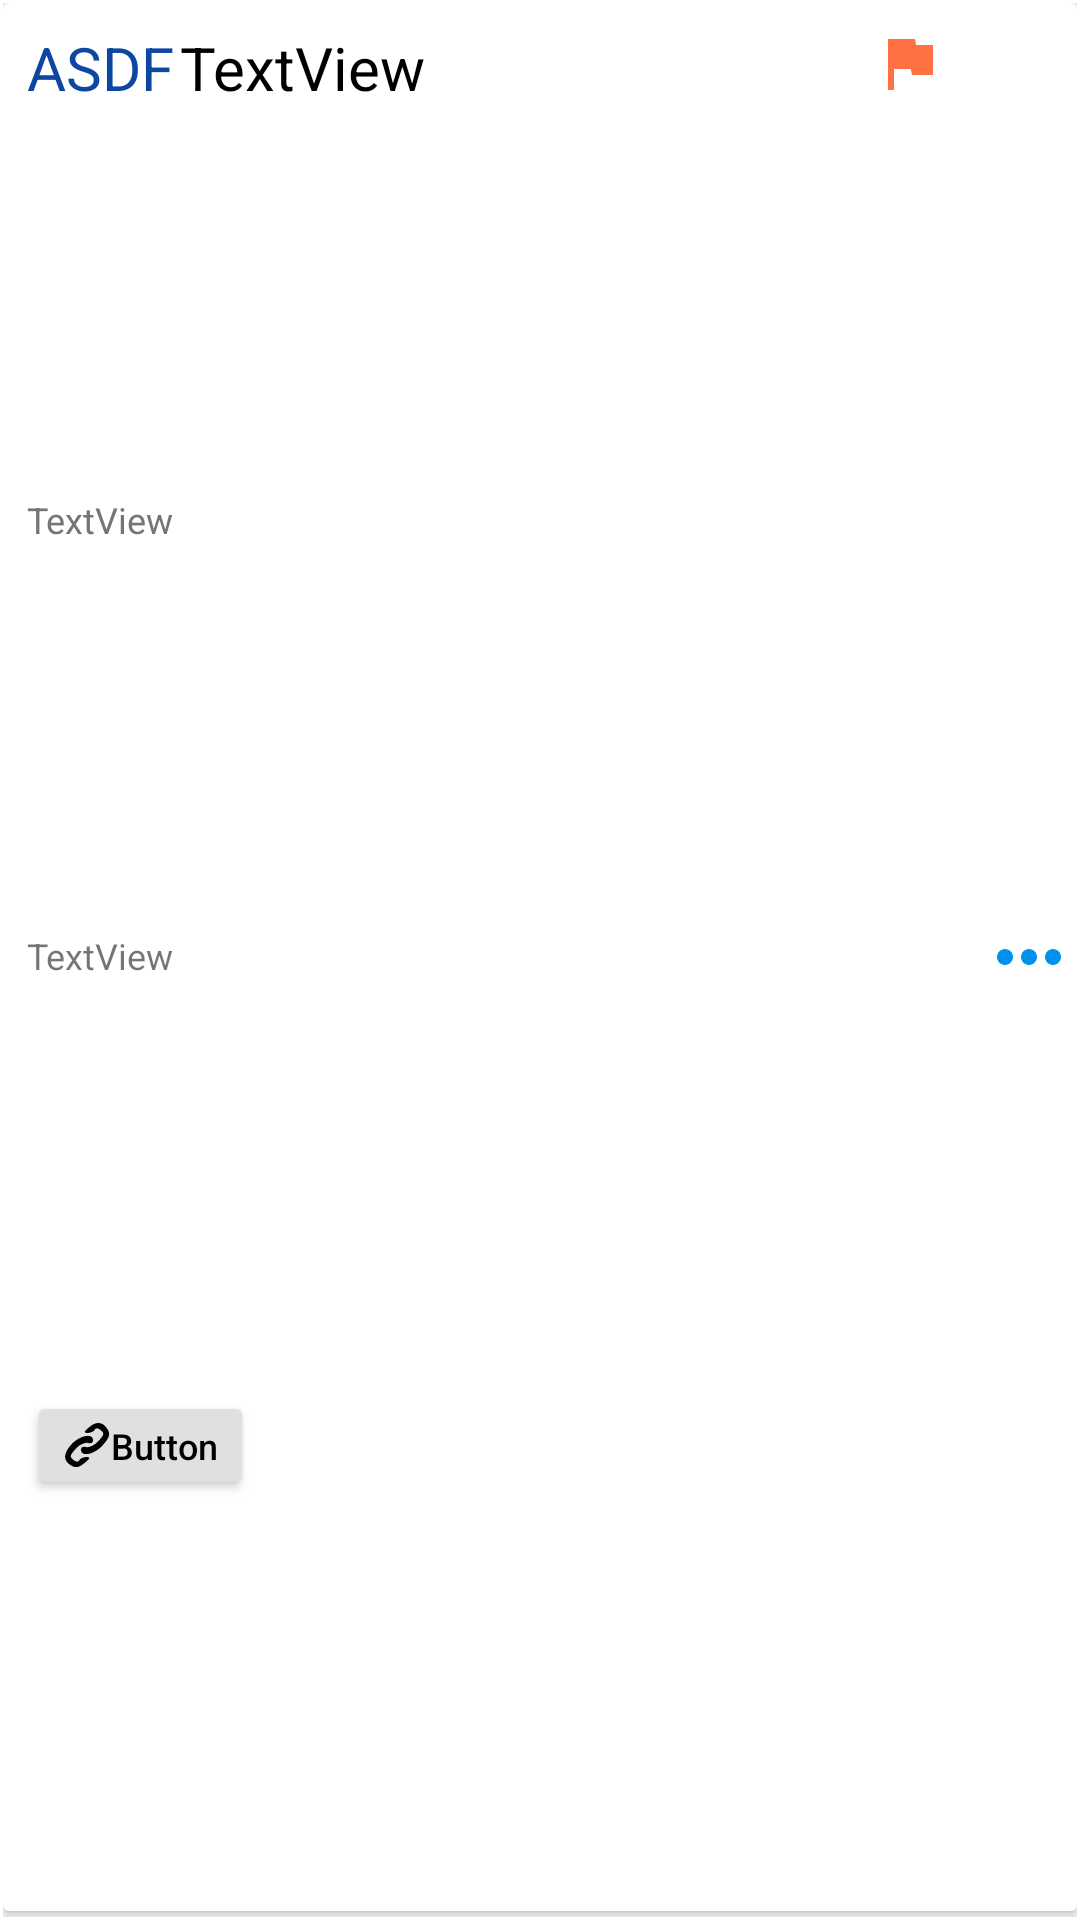

Icons on this 1080px×1920px Android screen, each with the point to tap as point (x, y):
flag: point (910, 64)
